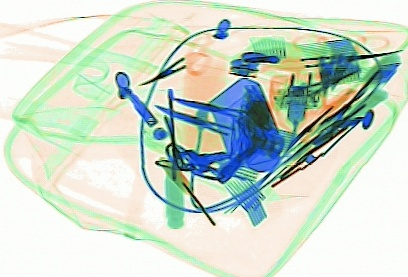scissors: (281, 86, 356, 155), (152, 102, 257, 144), (259, 47, 404, 73), (166, 94, 270, 129), (134, 42, 213, 88)
